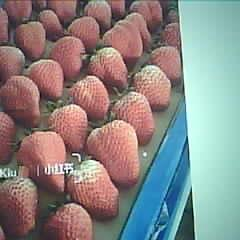straw-ripe: (89, 123, 140, 186), (19, 129, 66, 191), (72, 160, 120, 218), (2, 174, 36, 235), (114, 92, 154, 142), (49, 100, 86, 151), (1, 76, 41, 123), (135, 65, 173, 110), (71, 75, 109, 119), (46, 203, 91, 240), (88, 47, 124, 88)
